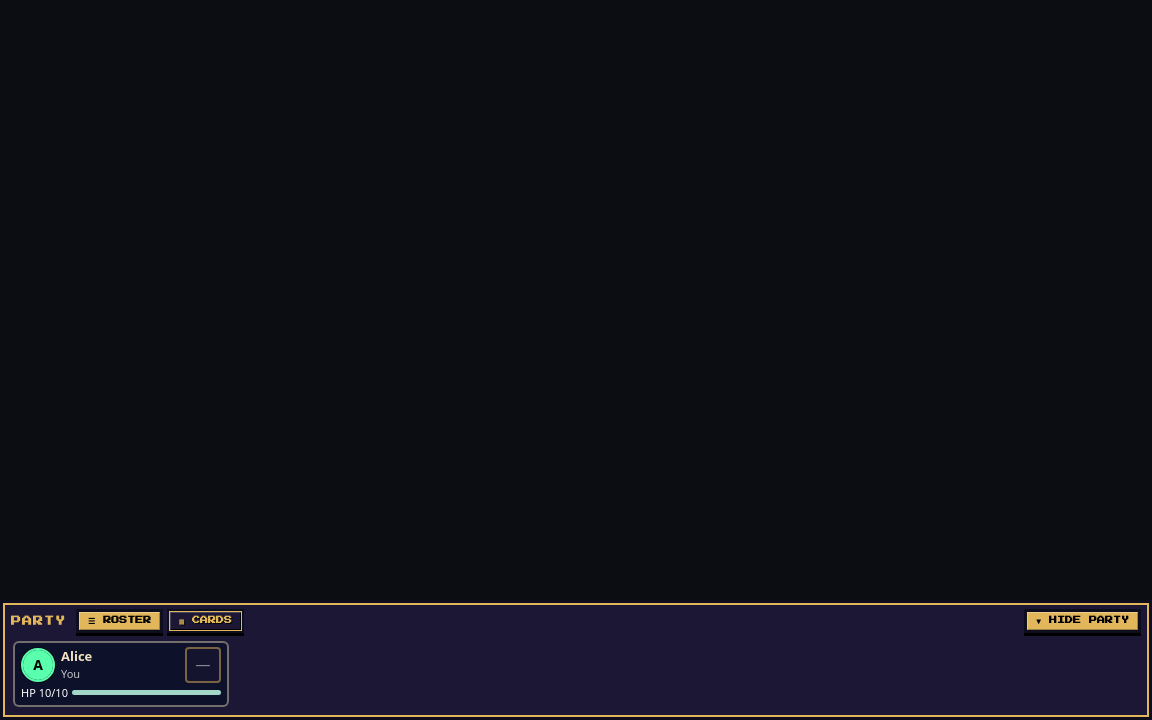
Test case: EntitiesPanel — who may delete a character › the owner still gets it on their own card
This screenshot has width=1152, height=720.
Click the button "▦ Cards" at (206,620), box x1=167 y1=608 x2=244 y2=632
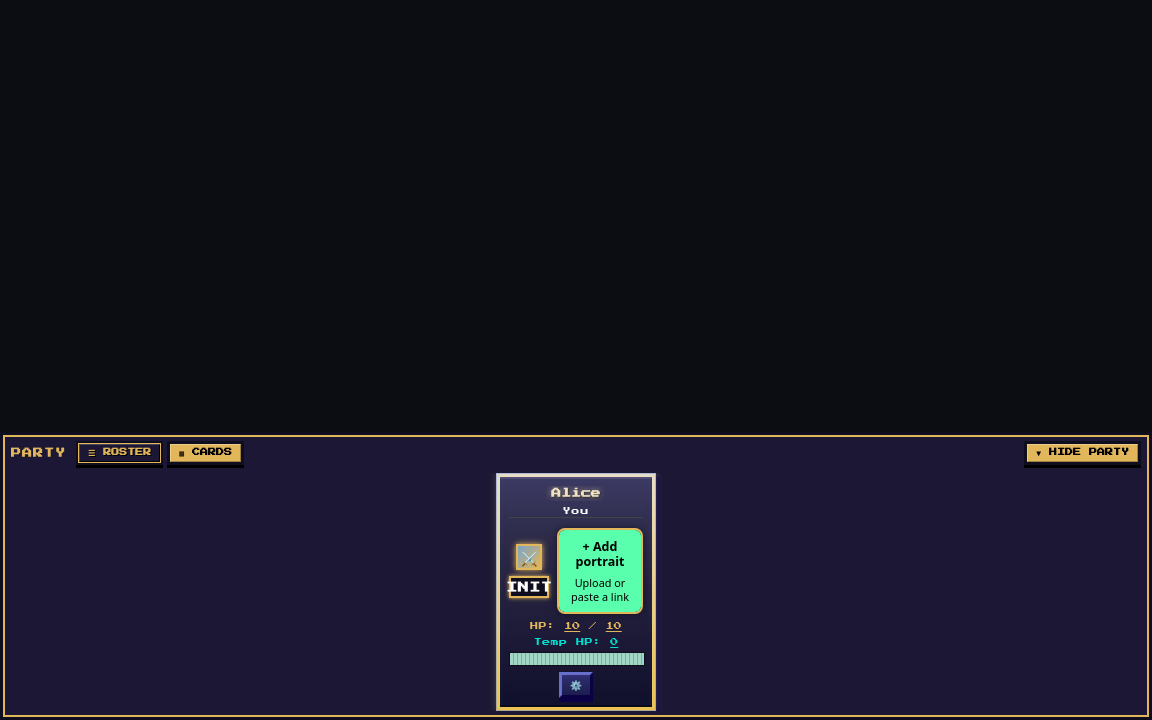
Click the button with aria-label "Change portrait" at (600,571), box x1=557 y1=528 x2=643 y2=614
(page scrolled)
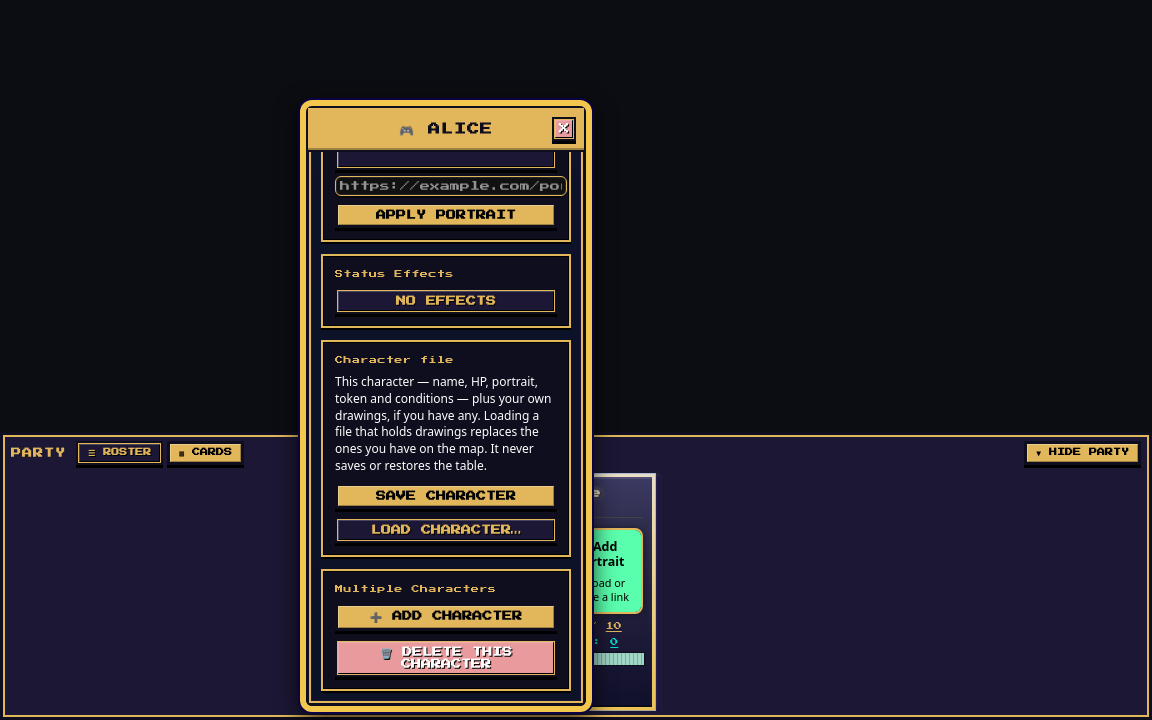
Expected: the button "🗑️ Delete this character" is shown, x1=335 y1=639 x2=557 y2=677
